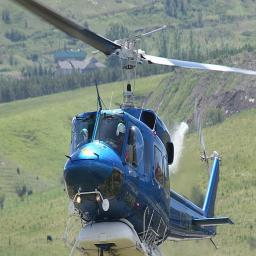helicopter: (8, 2, 256, 255)
